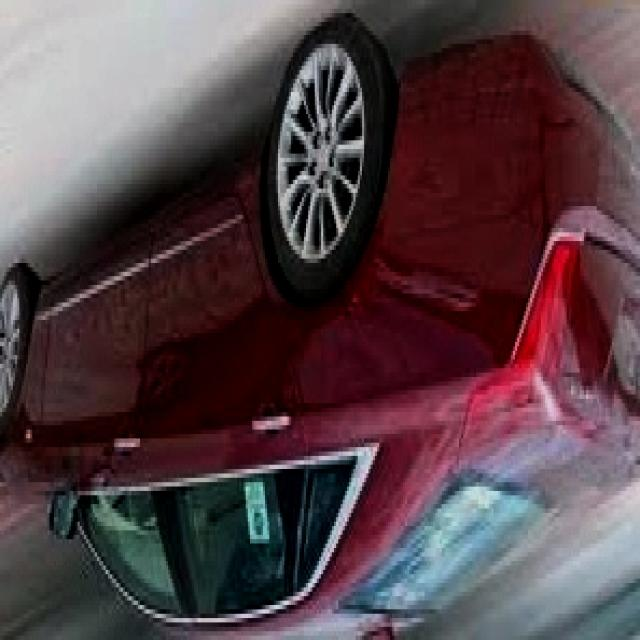maroon: (0, 48, 640, 639)
